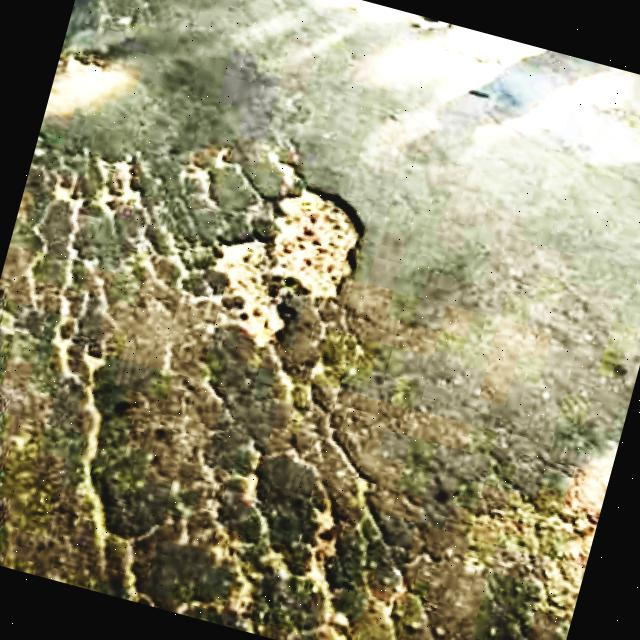pothole: (192, 162, 379, 372), (479, 450, 610, 640)
